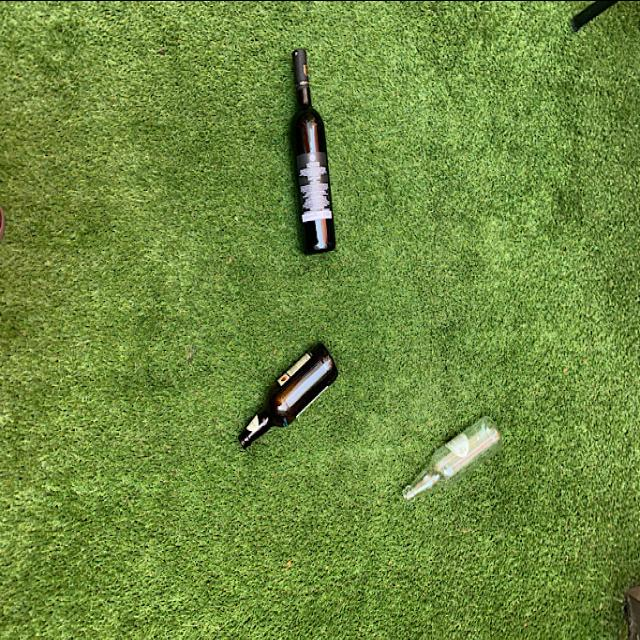Glass Bottle: (235, 340, 339, 455), (288, 48, 338, 254), (401, 410, 505, 502)
